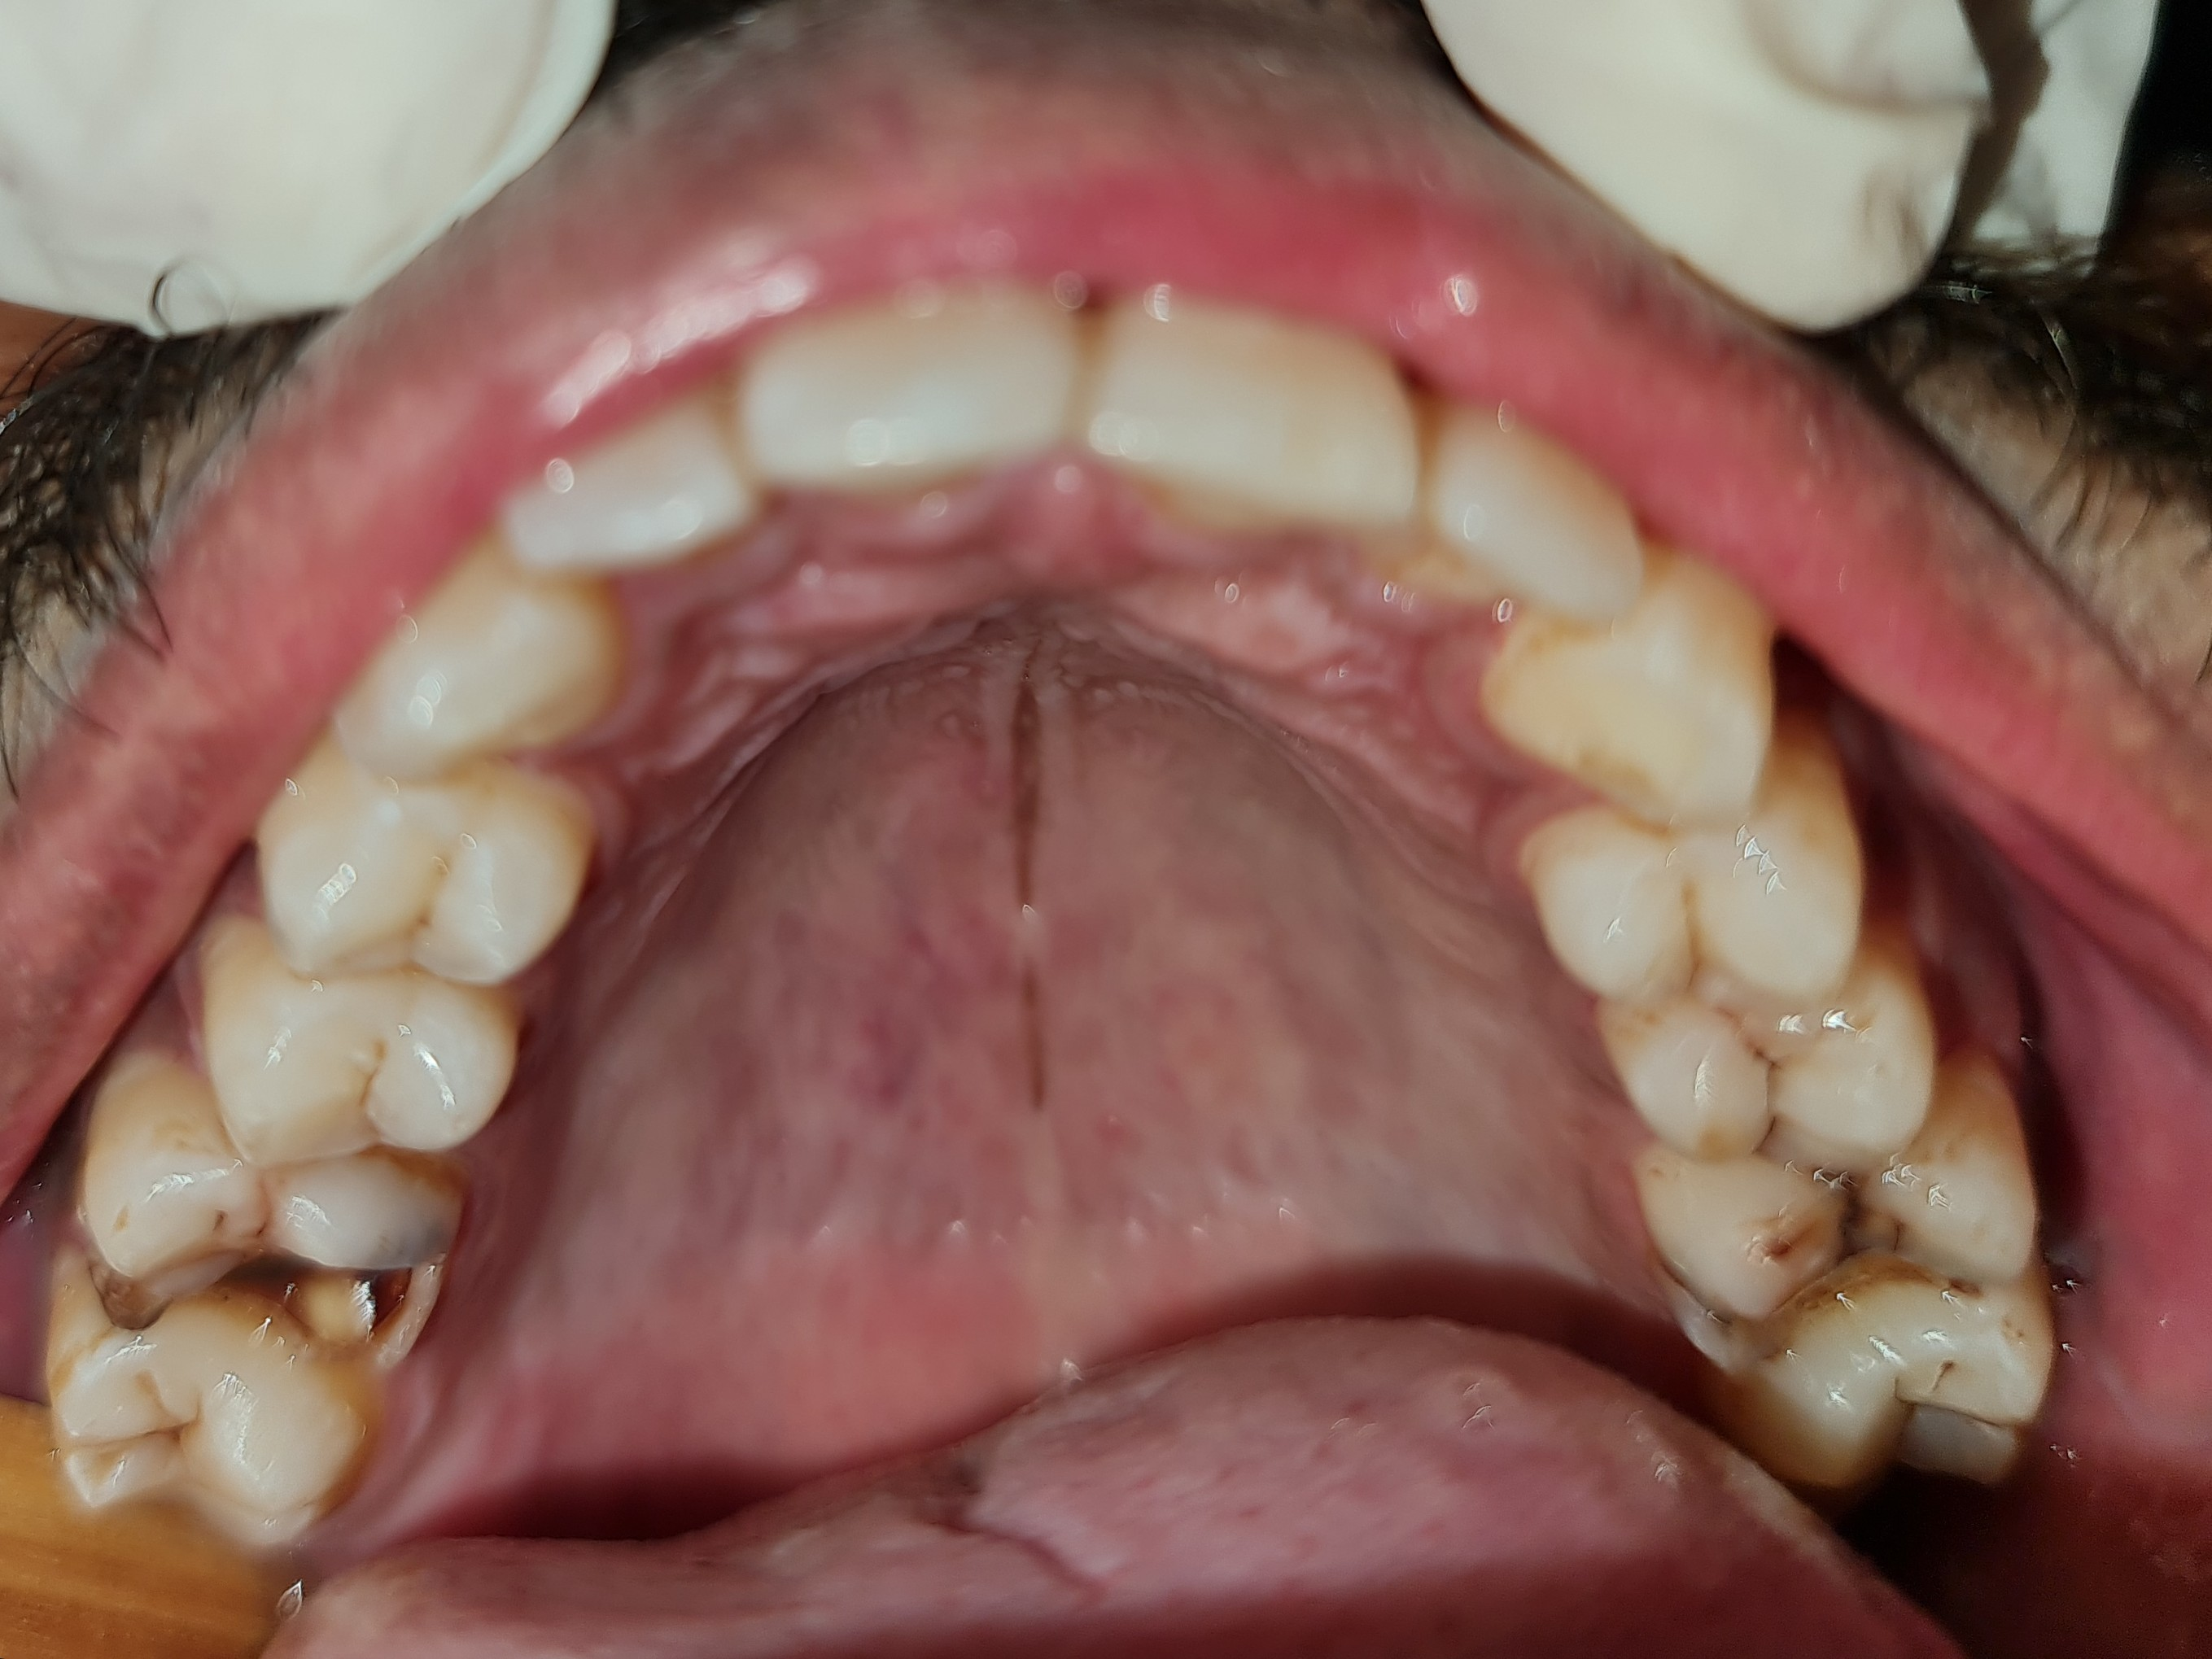D: (63, 1045, 470, 1382), (1630, 1058, 2050, 1319), (1589, 933, 1944, 1179)
